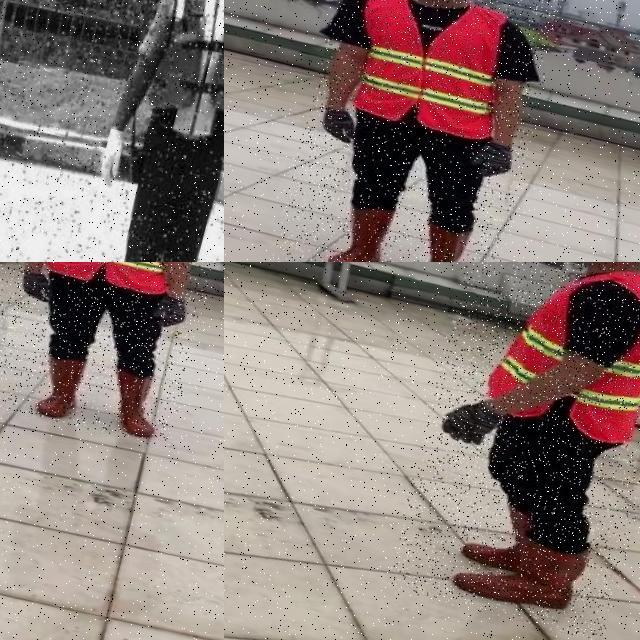boots: (454, 522, 586, 622), (454, 492, 574, 581), (101, 366, 170, 442), (323, 197, 398, 262), (28, 348, 92, 424), (405, 220, 485, 262)
vest: (477, 262, 640, 448), (339, 0, 516, 143), (134, 0, 224, 157), (30, 262, 191, 299)
